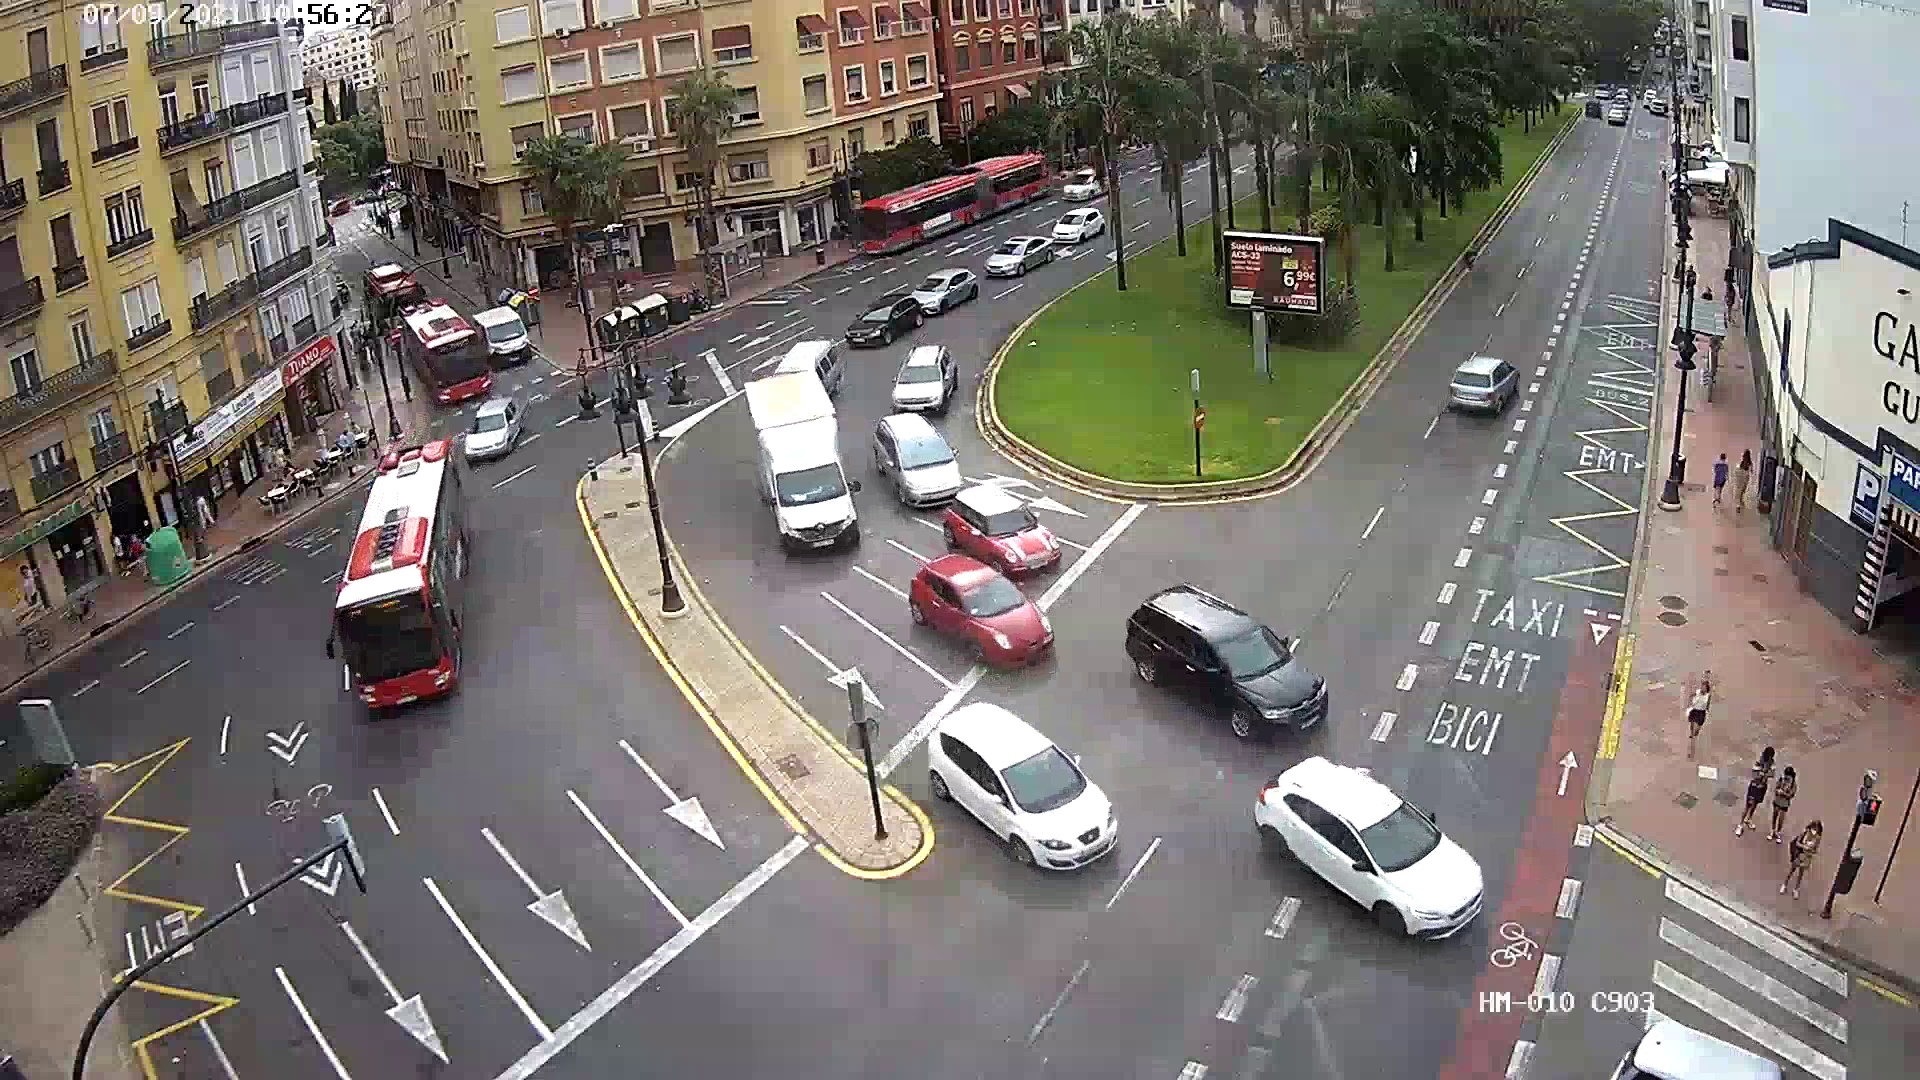Cars: (1226, 765, 1509, 931), (910, 694, 1122, 876), (1131, 583, 1328, 745), (887, 560, 1058, 666), (939, 483, 1067, 579), (868, 414, 957, 512), (891, 344, 967, 422), (1445, 353, 1526, 418), (446, 401, 543, 454), (843, 297, 918, 348), (899, 270, 988, 314), (982, 241, 1051, 270)
